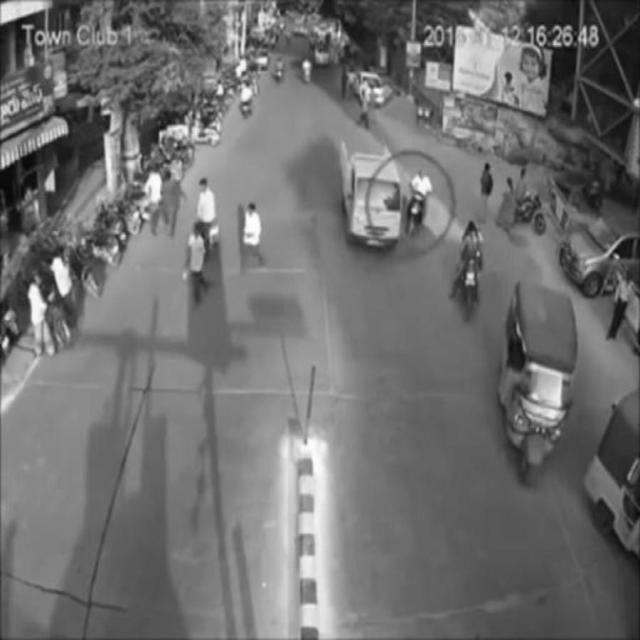person: (184, 223, 211, 306), (192, 176, 219, 256), (240, 203, 267, 276)
vehicle: (502, 280, 580, 488), (339, 142, 400, 255), (456, 219, 486, 323), (407, 168, 433, 236)
